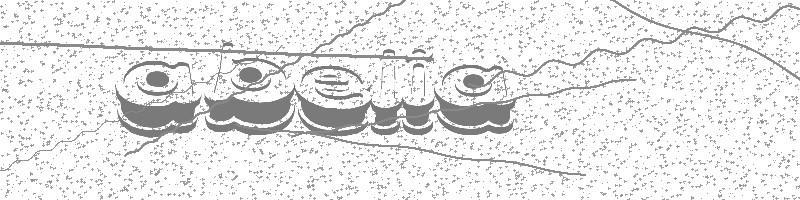a: (113, 55, 200, 138), (433, 62, 526, 138)
b: (205, 39, 299, 144)
e: (295, 56, 371, 140)
i: (402, 42, 437, 143), (372, 45, 404, 137)
